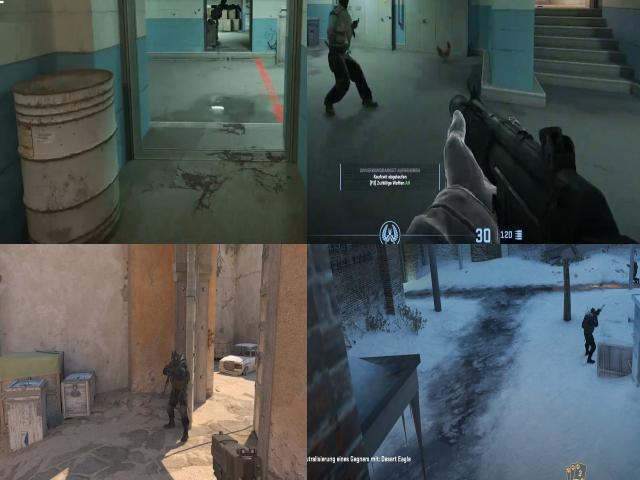CT: (167, 348, 187, 428), (582, 304, 598, 363), (633, 260, 640, 282)
CT-Head: (170, 350, 181, 366), (589, 308, 597, 316)
Dead: (213, 0, 237, 24)
T: (327, 0, 355, 62)
T-Head: (335, 0, 350, 14)
